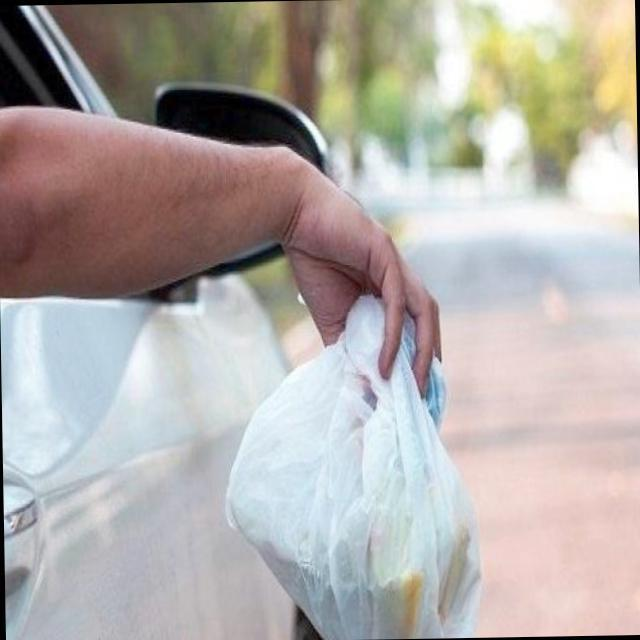garbage: (214, 282, 488, 640)
